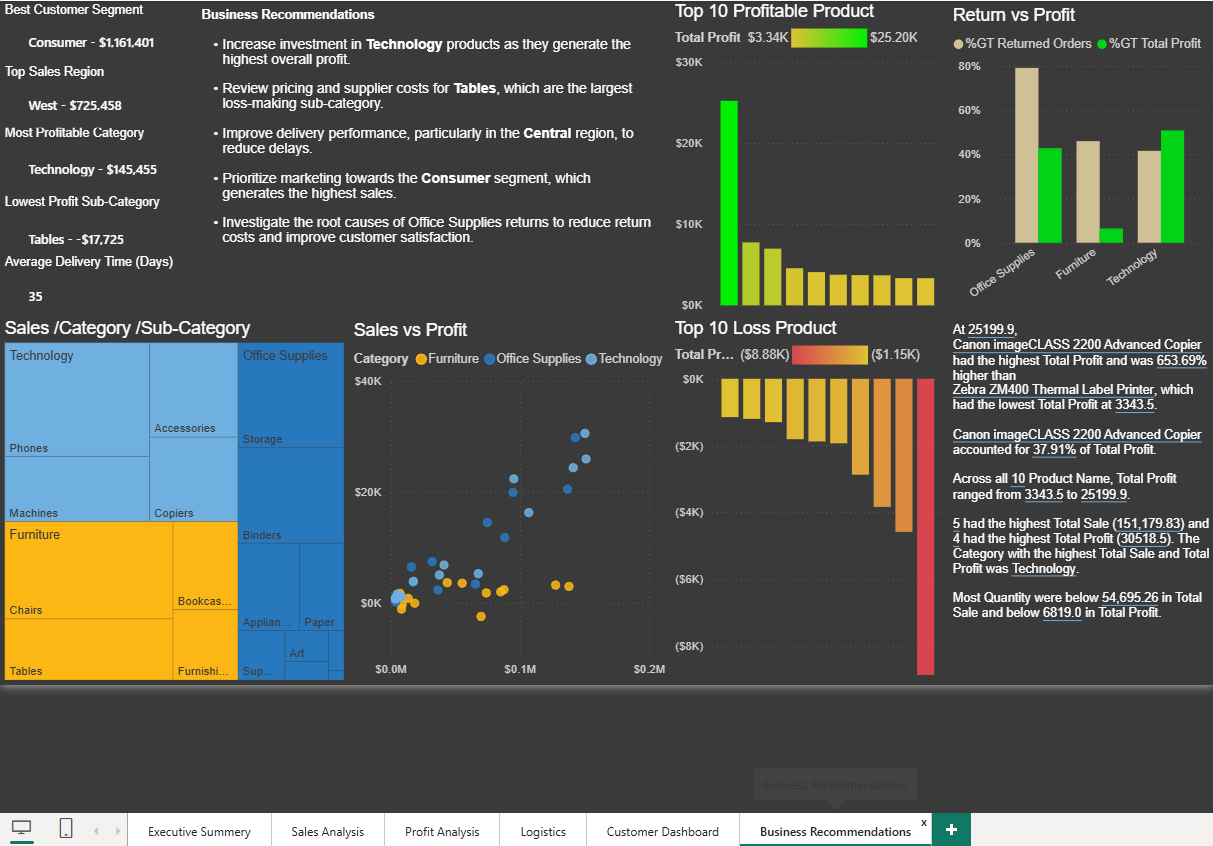

Layout of this report page (visuals, bound fields, positions):
{"tool":"powerbi","page":{"name":"Business Recommendations","canvas":[1280,720],"ordinal":5},"visuals":[{"type":"cardVisual","title":"Most Profitable Category","fields":{"Data":["_Measures.Highest Profit Category KPI"]},"box":[0,131.6,202.1,72.6],"z":1},{"type":"cardVisual","title":"Lowest Profit Sub-Category","fields":{"Data":["_Measures.Lowest Profit Sub-Category KPI"]},"box":[0,204.2,202.1,76.8],"z":2},{"type":"cardVisual","title":"Top Sales Region","fields":{"Data":["_Measures.Highest Sales by Region"]},"box":[0,67.4,202.1,66.3],"z":3},{"type":"cardVisual","title":"Average Delivery Time (Days)","fields":{"Data":["_Measures.Average Delivery Days"]},"box":[0,267.4,202.1,68.4],"z":4},{"type":"cardVisual","title":"Best Customer Segment","fields":{"Data":["_Measures.Best Customer Segment KPI"]},"box":[0,2.1,202.1,65.3],"z":6},{"type":"clusteredColumnChart","title":"Top 10 Profitable Product ","fields":{"Category":["FactOrders.Product Name"],"Y":["_Measures.Total Profit"]},"box":[705.3,0,292.6,333.7],"z":7},{"type":"clusteredColumnChart","title":"Top 10 Loss Product","fields":{"Category":["FactOrders.Product Name"],"Y":["_Measures.Total Profit"]},"box":[705.3,333.7,292.6,386.3],"z":8},{"type":"scatterChart","title":"Sales vs Profit","fields":{"X":["_Measures.Total Sale"],"Y":["_Measures.Total Profit"],"Category":["FactOrders.Quantity"],"Series":["FactOrders.Category"]},"box":[367.4,335.8,337.9,384.2],"z":9},{"type":"clusteredColumnChart","title":"Return vs Profit","fields":{"Y":["_Measures.Returned Orders","_Measures.Total Profit"],"Category":["FactOrders.Category"]},"box":[997.9,4.2,282.1,331.6],"z":10},{"type":"treemap","title":"Sales /Category /Sub-Category","fields":{"Values":["_Measures.Total Sale"],"Group":["FactOrders.Category"],"Details":["FactOrders.Sub-Category"]},"box":[0,333.7,367.4,386.3],"z":11},{"type":"textbox","box":[997.9,333.7,282.1,386.3],"z":13},{"type":"textbox","box":[202.1,2.1,503.2,331.6],"z":14}]}

Visuals, with their boxes on the page's 1280x720 design canvas (x1, y1, x2, y2). These are canvas units, not pixel positions in the 1213x846 screenshot, which may show the page scaled, cropped or inside an application window:
"Most Profitable Category" cardVisual: (0,132,202,204)
"Lowest Profit Sub-Category" cardVisual: (0,204,202,281)
"Top Sales Region" cardVisual: (0,67,202,134)
"Average Delivery Time (Days)" cardVisual: (0,267,202,336)
"Best Customer Segment" cardVisual: (0,2,202,67)
"Top 10 Profitable Product " clusteredColumnChart: (705,0,998,334)
"Top 10 Loss Product" clusteredColumnChart: (705,334,998,720)
"Sales vs Profit" scatterChart: (367,336,705,720)
"Return vs Profit" clusteredColumnChart: (998,4,1280,336)
"Sales /Category /Sub-Category" treemap: (0,334,367,720)
textbox: (998,334,1280,720)
textbox: (202,2,705,334)
